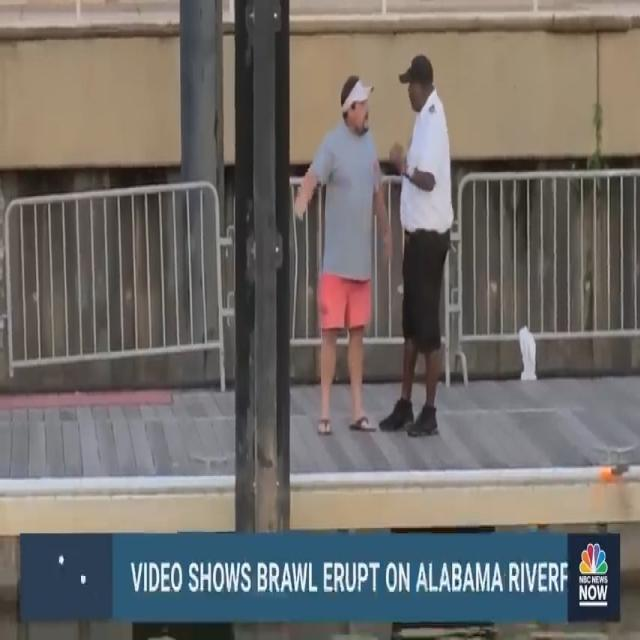non-fight: (293, 46, 454, 444)
